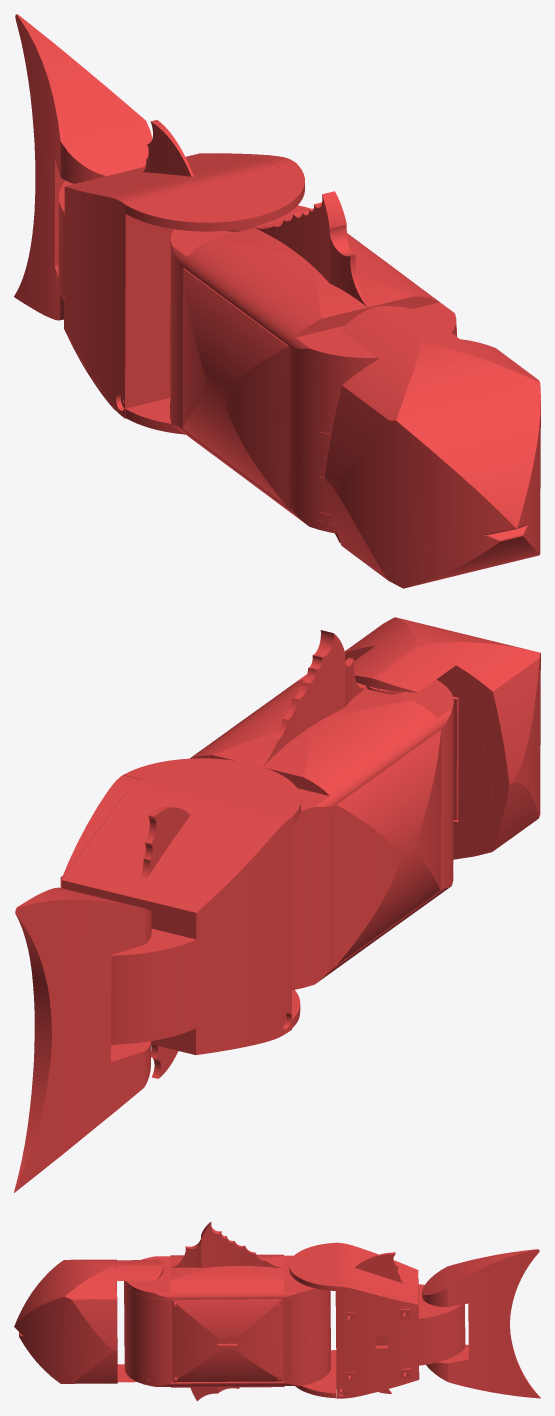
3 views of the same model, one above another, from view 1: azimuth 30°, elevation 25°; view 2: azimuth 150°, elevation 25°; view 3: azimuth 270°, elevation 25° (orthographic). The views are drawn at different scales.
Visible parts, largest first — view 1: Body16, 上面 (1), Body18.001, 右デザイン追加壁, Body9, Body18, Body14, 頭側の中心ギアパイプ2, Body13, Body113, Body19, Body22 (+6 smaller); view 2: Body9, Body18.001, 上面 (1), 右デザイン追加壁, Body19, Body16.001, 頭側の中心ギアパイプ2, Body14, Body13, Body113, Body16, ネジ蓋横 (+9 smaller); view 3: 上面 (1), Body44, Body9, Body26.001, Body16, Body15, Body16.001, 頭側の中心ギアパイプ2, Body19, Body113, Body13, Body18 (+12 smaller).
Part boxes in pixels (x1,y1,x2,y2): Body16: (343, 339, 540, 588); 上面 (1): (170, 219, 456, 523); Body18.001: (64, 186, 173, 418); 右デザイン追加壁: (182, 268, 289, 506); Body9: (14, 14, 151, 319); Body18: (396, 374, 540, 522); Body14: (325, 386, 388, 580); 頭側の中心ギアパイプ2: (170, 205, 456, 366); Body13: (125, 163, 304, 231); Body113: (255, 191, 366, 306); Body19: (65, 153, 278, 204); Body22: (397, 360, 534, 528); Body9: (14, 887, 151, 1192); Body18.001: (62, 817, 292, 1054); 上面 (1): (190, 680, 453, 981); 右デザイン追加壁: (334, 729, 441, 965); Body19: (61, 779, 292, 912); Body16.001: (111, 928, 196, 1044); 頭側の中心ギアパイプ2: (190, 674, 453, 820); Body14: (493, 658, 539, 850); Body13: (123, 758, 301, 824); Body113: (255, 630, 365, 766); Body16: (345, 617, 540, 817); ネジ蓋横: (445, 685, 484, 837); 上面 (1): (124, 1254, 330, 1383); Body44: (172, 1299, 283, 1382); Body9: (422, 1249, 540, 1398); Body26.001: (336, 1286, 419, 1398); Body16: (14, 1259, 116, 1383); Body15: (71, 1299, 117, 1383); Body16.001: (418, 1284, 465, 1365); 頭側の中心ギアパイプ2: (124, 1254, 320, 1298); Body19: (335, 1242, 418, 1304); Body113: (171, 1222, 283, 1268); Body13: (289, 1242, 335, 1290); Body18: (16, 1259, 71, 1323).
Bounding box in the file's own units: 1.12 × 1.9 × 5.1.
